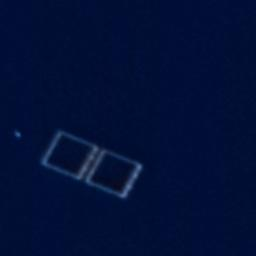square_solid: (38, 127, 105, 186), (82, 146, 148, 205)
